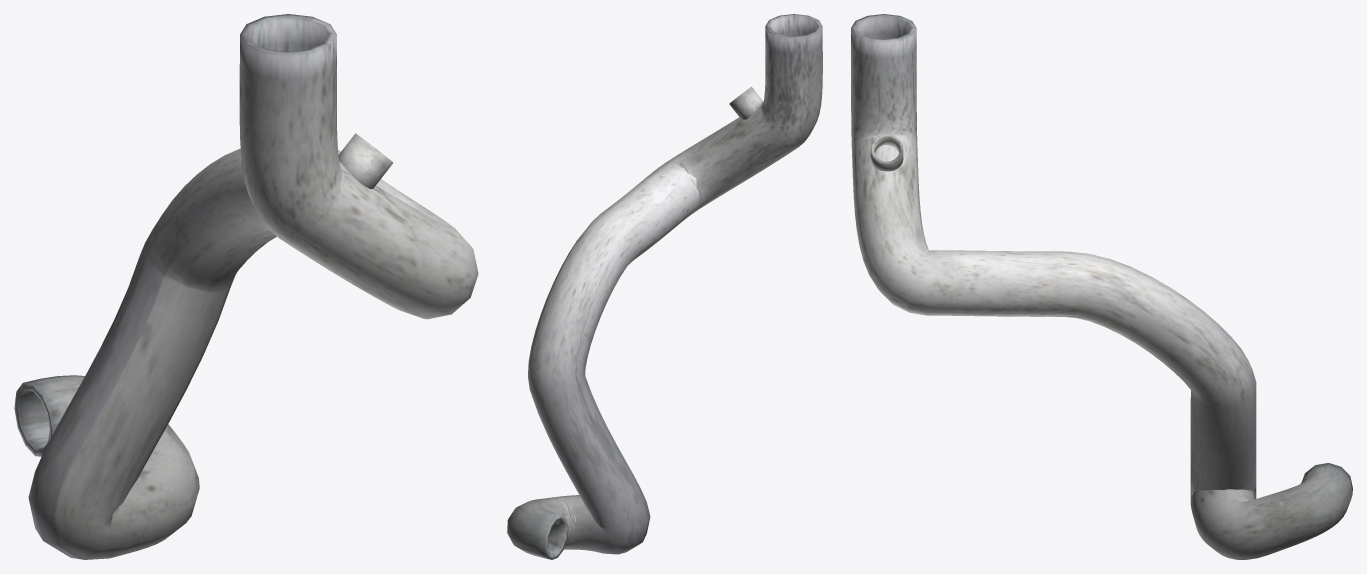
The model's file is turboBig_intercooler_tube.fbx.
The picture shows the model from 3 angles, left to right: view 1: azimuth 30°, elevation 25°; view 2: azimuth 150°, elevation 25°; view 3: azimuth 270°, elevation 25°; orthographic projection. The views are drawn at different scales.
Parts seen in each view (by area): view 1: turboBig_intercooler_tube; view 2: turboBig_intercooler_tube; view 3: turboBig_intercooler_tube.
Boxes of the visible parts, left/top/right/bottom form: turboBig_intercooler_tube: left=14, top=14, right=478, bottom=559; turboBig_intercooler_tube: left=507, top=14, right=822, bottom=559; turboBig_intercooler_tube: left=851, top=14, right=1352, bottom=559.
Size of the model in its own units: 18 by 49.3 by 46.02.
Materials: 1 (1 with a texture image).
